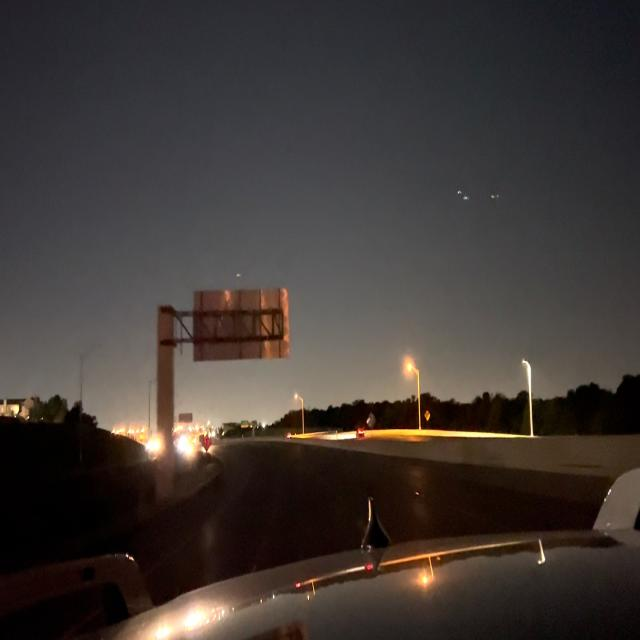back-of-sign: (195, 288, 292, 360)
